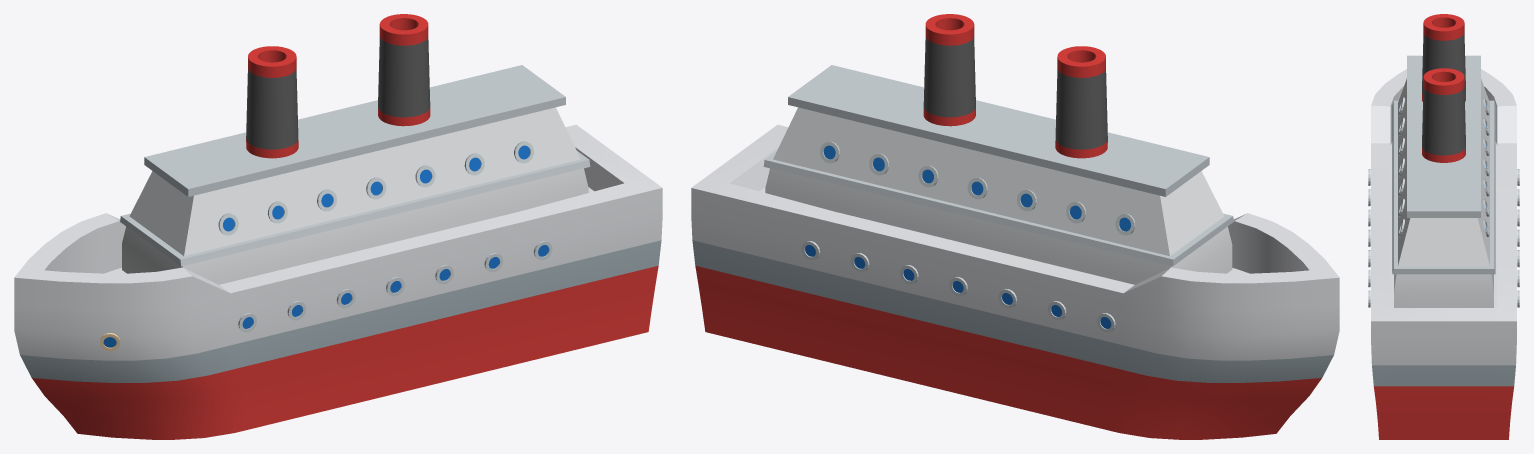
Rendered from ship.glb.
3 renders of one model, left to right at view 1: azimuth 30°, elevation 25°; view 2: azimuth 150°, elevation 25°; view 3: azimuth 270°, elevation 25°, orthographic. The views are drawn at different scales.
Parts seen in each view (by area): view 1: Cube.788; view 2: Cube.788; view 3: Cube.788.
Part boxes in pixels (x1=…): Cube.788: x1=14, y1=14, x2=662, y2=439; Cube.788: x1=691, y1=14, x2=1339, y2=439; Cube.788: x1=1368, y1=14, x2=1519, y2=439.
Bounding box in the file's own units: 2.38 × 1.24 × 0.6103.
Materials: 1 (1 with a texture image).
